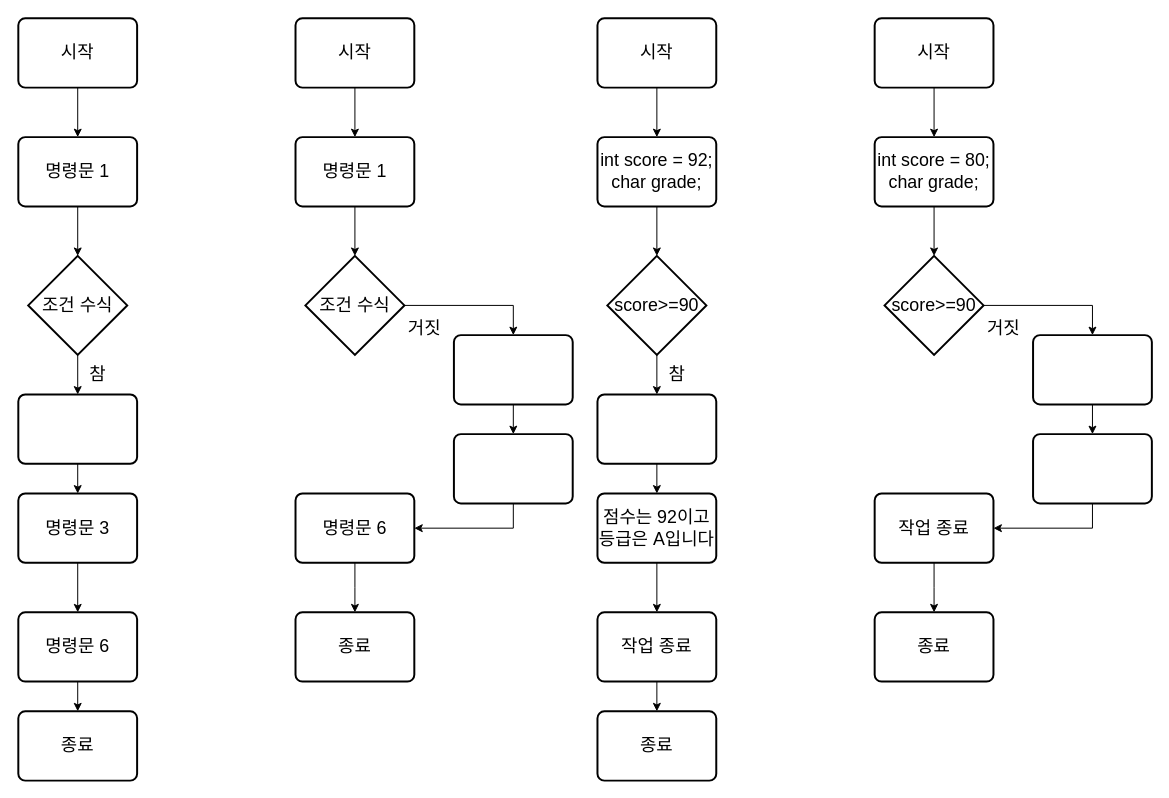
Image size: 1169x798. Some labels were removed from this diagram. The box of each missing label's shape, as (x1, y1, x2, y2) in pixels:
grade = 'A': (596, 393, 717, 464)
grade = 'B': (1032, 334, 1152, 405)
명령문 2: (17, 393, 138, 464)
명령문 4: (452, 334, 573, 405)
명령문 5: (452, 433, 573, 504)
점수는 80이고 등급은 B입니다: (1032, 433, 1152, 504)
